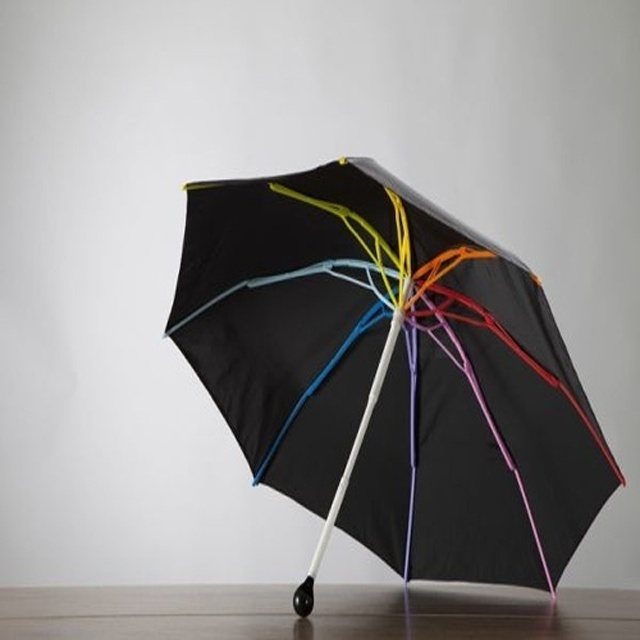umbrella: (159, 153, 631, 621)
